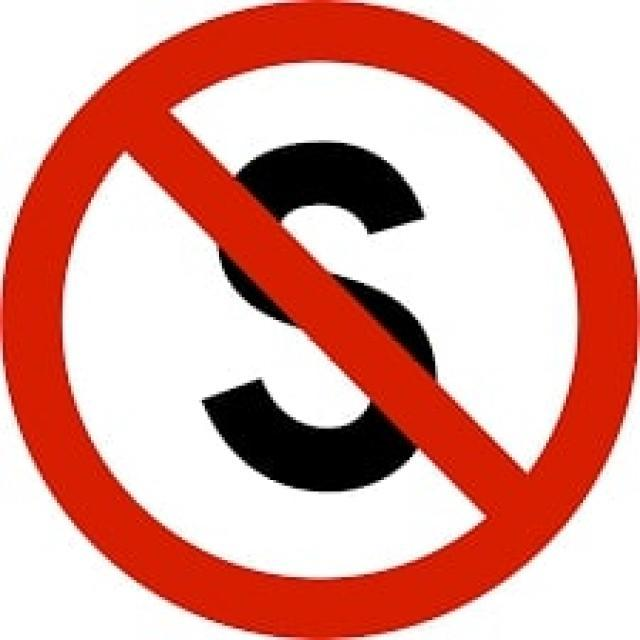Dilarang Berhenti: (4, 4, 636, 636)
